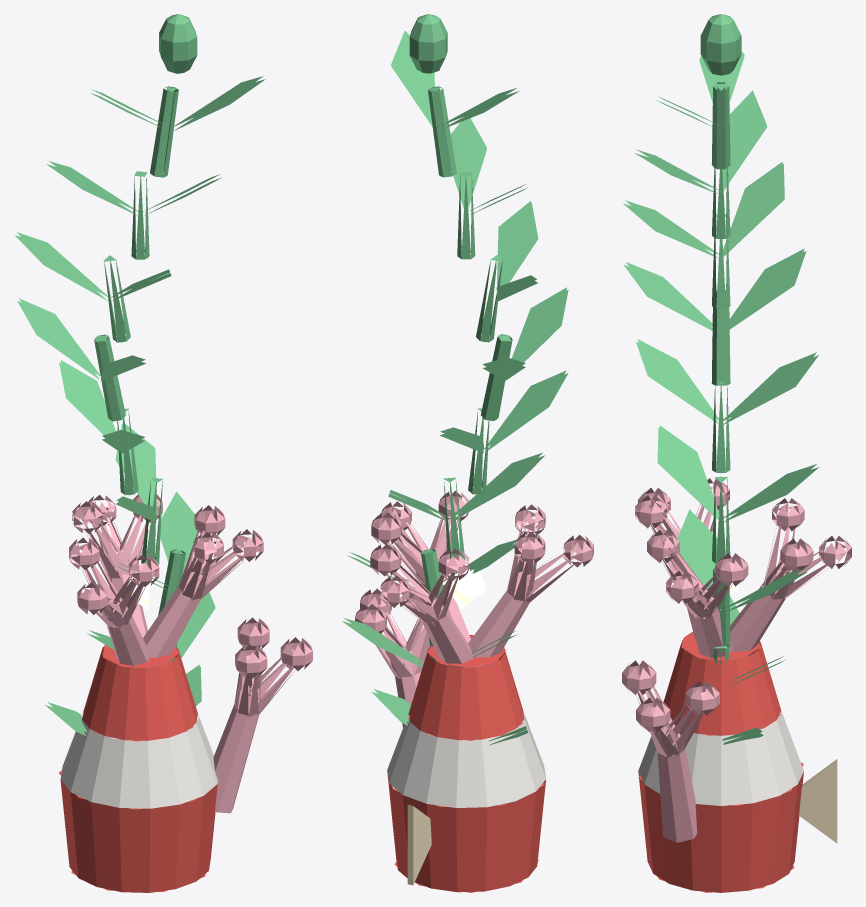
The model's file is elements.glb.
3 renders of one model, left to right at view 1: azimuth 30°, elevation 25°; view 2: azimuth 150°, elevation 25°; view 3: azimuth 270°, elevation 25°, orthographic. The views are drawn at different scales.
Visible parts, largest first — view 1: EL_Buoy, UW_Kelp, UW_Coral; view 2: EL_Buoy, UW_Kelp, UW_Coral, UW_Fish; view 3: UW_Kelp, EL_Buoy, UW_Coral, UW_Fish.
Part boxes in pixels (left/top/right/bottom): EL_Buoy: left=59, top=571, right=217, bottom=892; UW_Kelp: left=15, top=14, right=265, bottom=735; UW_Coral: left=69, top=494, right=312, bottom=813; EL_Buoy: left=387, top=569, right=545, bottom=892; UW_Kelp: left=342, top=14, right=568, bottom=745; UW_Coral: left=355, top=491, right=593, bottom=727; UW_Fish: left=407, top=804, right=431, bottom=885; UW_Kelp: left=623, top=14, right=819, bottom=744; EL_Buoy: left=638, top=561, right=803, bottom=892; UW_Coral: left=622, top=478, right=851, bottom=842; UW_Fish: left=799, top=759, right=837, bottom=843.
Size of the model in its own units: 2.08 by 7.16 by 1.72.
